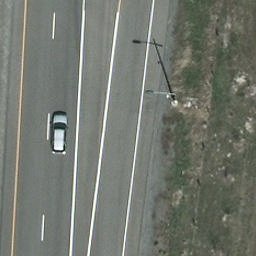car: (51, 112, 69, 154)
